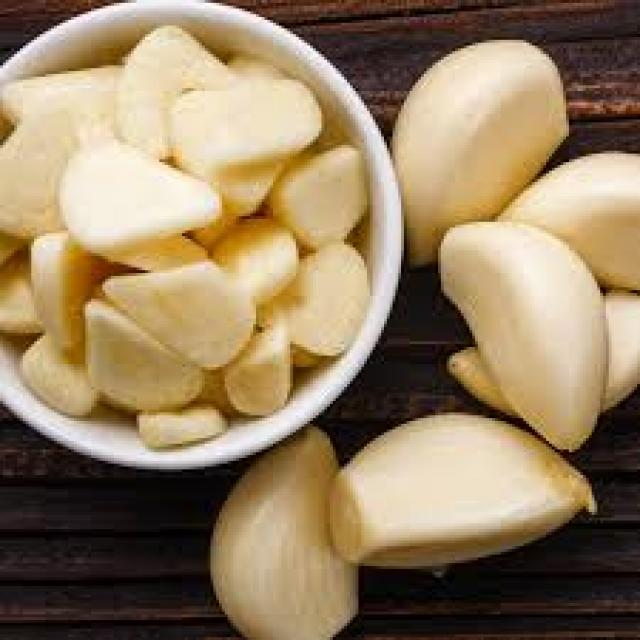garlic: (17, 77, 316, 387)
